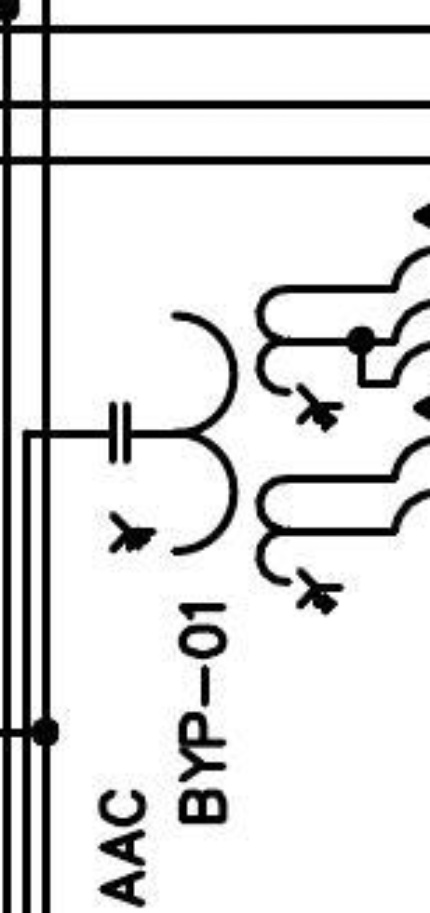115_cvt_3p: (108, 283, 347, 618)
